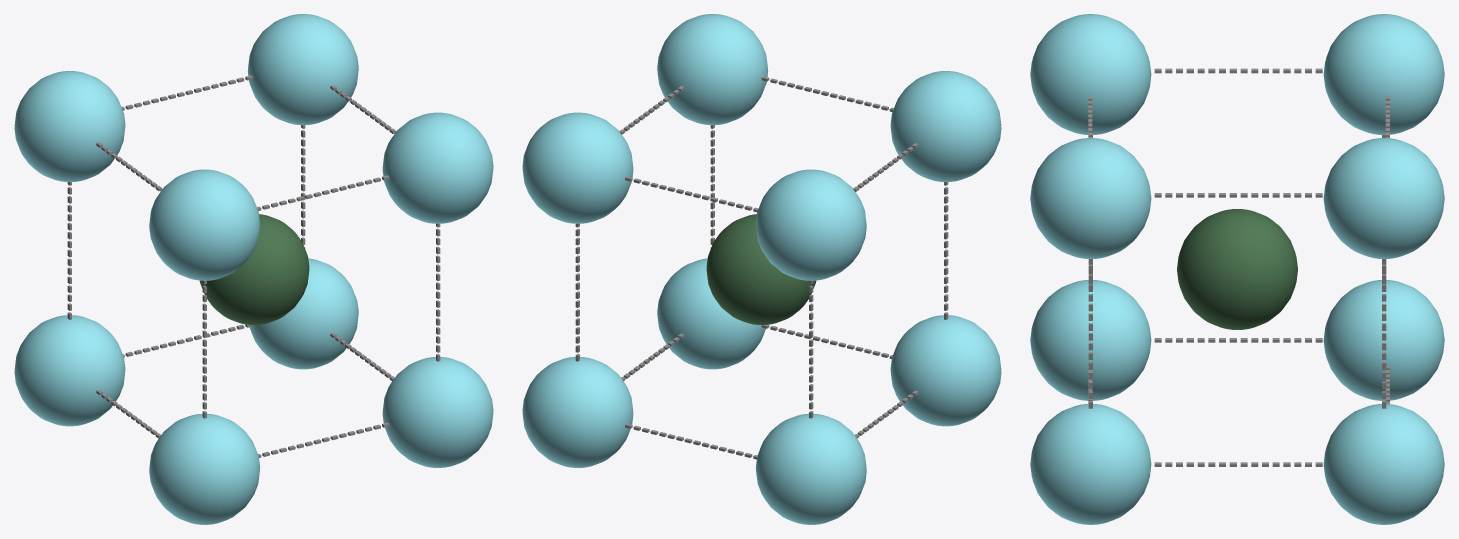
The model's file is lvhuase1.FBX.
3 renders of one model, left to right at view 1: azimuth 30°, elevation 25°; view 2: azimuth 150°, elevation 25°; view 3: azimuth 270°, elevation 25°, orthographic. The views are drawn at different scales.
Parts seen in each view (by area): view 1: Sphere024, Sphere019, Sphere025, Sphere020, Sphere023, Sphere022, Sphere017, Sphere018, Sphere021; view 2: Sphere023, Sphere022, Sphere017, Sphere021, Sphere024, Sphere025, Sphere019, Sphere018, Sphere020; view 3: Sphere019, Sphere017, Sphere018, Sphere020, Sphere021, Sphere024, Sphere023, Sphere025, Sphere022.
Boxes of the visible parts, bbox=[...] form: Sphere024: bbox=[149, 169, 259, 280]; Sphere019: bbox=[382, 112, 493, 223]; Sphere025: bbox=[149, 413, 260, 524]; Sphere020: bbox=[382, 357, 493, 467]; Sphere023: bbox=[14, 71, 125, 182]; Sphere022: bbox=[14, 315, 125, 426]; Sphere017: bbox=[247, 14, 358, 125]; Sphere018: bbox=[199, 214, 309, 324]; Sphere021: bbox=[249, 258, 358, 369]; Sphere023: bbox=[756, 169, 866, 280]; Sphere022: bbox=[755, 413, 866, 524]; Sphere017: bbox=[522, 112, 633, 223]; Sphere021: bbox=[522, 357, 633, 467]; Sphere024: bbox=[890, 71, 1001, 182]; Sphere025: bbox=[890, 315, 1001, 426]; Sphere019: bbox=[657, 14, 768, 125]; Sphere018: bbox=[706, 214, 816, 324]; Sphere020: bbox=[657, 258, 765, 369]; Sphere019: bbox=[1030, 138, 1151, 258]; Sphere017: bbox=[1323, 138, 1444, 258]; Sphere018: bbox=[1177, 209, 1297, 329]; Sphere020: bbox=[1030, 404, 1151, 524]; Sphere021: bbox=[1323, 404, 1444, 524]; Sphere024: bbox=[1030, 14, 1151, 134]; Sphere023: bbox=[1323, 14, 1444, 134]; Sphere025: bbox=[1030, 280, 1151, 400]; Sphere022: bbox=[1323, 280, 1444, 400].
Bounding box in the file's own units: 37.76 × 37.76 × 37.76.
